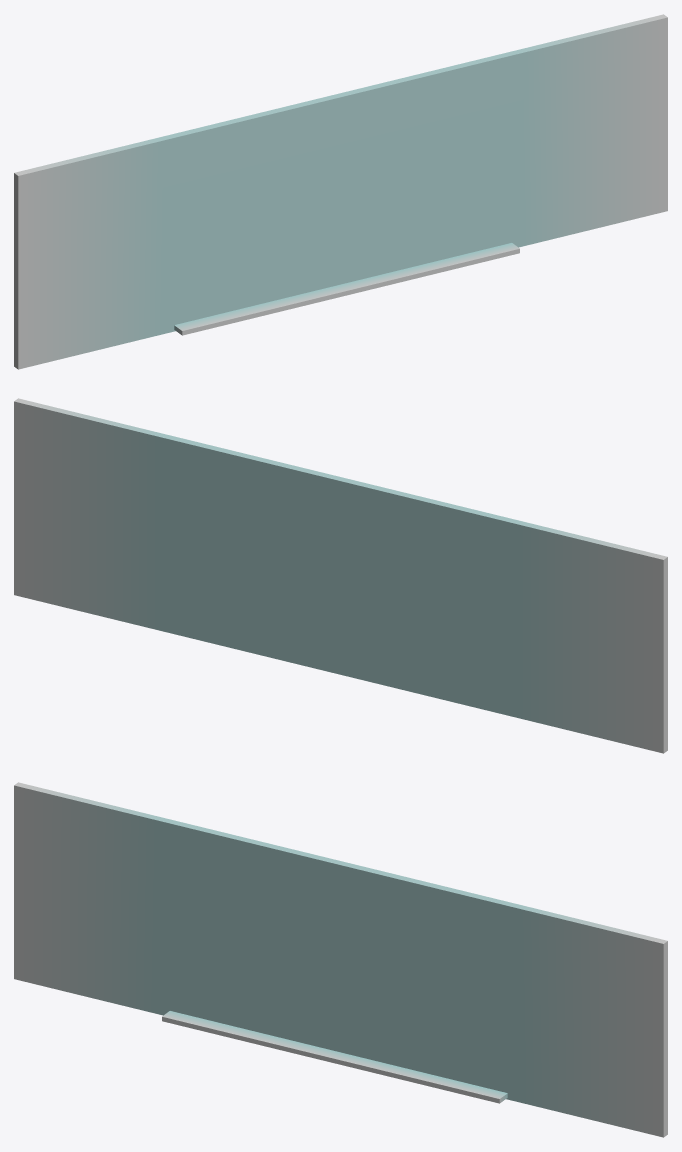
3 views of the same model, one above another, from view 1: azimuth 30°, elevation 25°; view 2: azimuth 150°, elevation 25°; view 3: azimuth 330°, elevation 25° (orthographic).
Visible parts, largest first — view 1: middle_panel, end_panel.001, end_panel, lower_lip; view 2: middle_panel, end_panel.001, end_panel; view 3: middle_panel, end_panel, end_panel.001, lower_lip.
Part boxes in pixels (left/top/right/bottom): middle_panel: left=158, top=49, right=523, bottom=334; end_panel.001: left=14, top=138, right=162, bottom=369; end_panel: left=520, top=14, right=667, bottom=245; lower_lip: left=174, top=243, right=519, bottom=335; middle_panel: left=158, top=433, right=523, bottom=718; end_panel.001: left=519, top=522, right=667, bottom=753; end_panel: left=14, top=398, right=161, bottom=629; middle_panel: left=158, top=817, right=523, bottom=1102; end_panel: left=519, top=906, right=667, bottom=1137; end_panel.001: left=14, top=782, right=161, bottom=1013; lower_lip: left=162, top=1011, right=507, bottom=1103.
Bounding box in the file's own units: 3 × 0.8545 × 0.0986.
